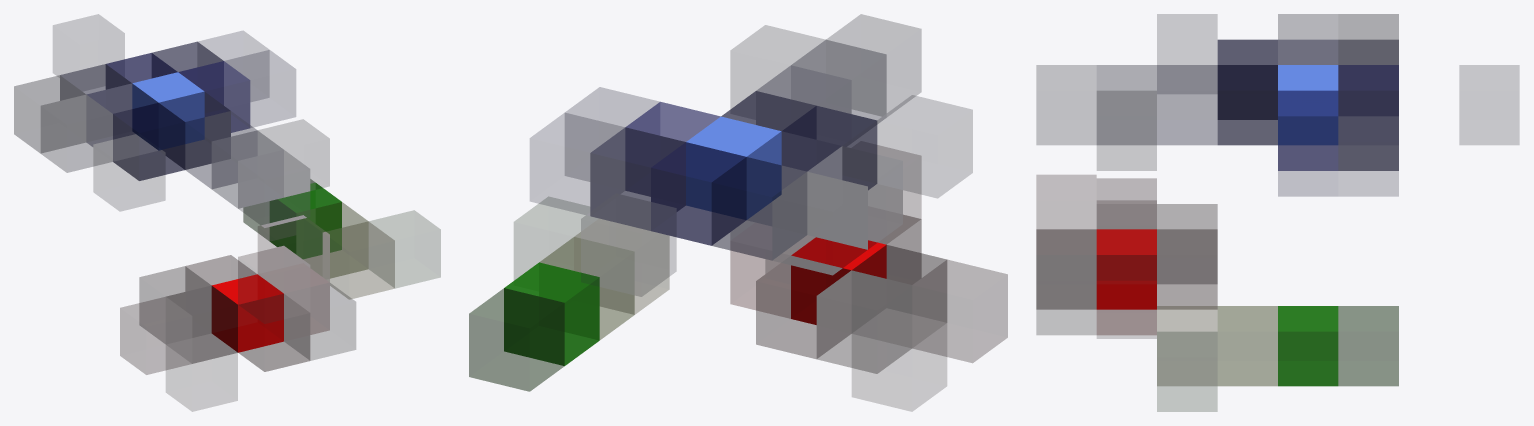
File: iter_5.obj
3 views of the same model, side by side, from view 1: azimuth 30°, elevation 25°; view 2: azimuth 150°, elevation 25°; view 3: azimuth 270°, elevation 25° (orthographic). The views are drawn at different scales.
Visible parts, largest first — view 1: iter_5; view 2: iter_5; view 3: iter_5.
Boxes of the visible parts, x1,y1,x2,y2 form: iter_5: (14,14,440,411); iter_5: (469,14,1007,411); iter_5: (1036,14,1518,411).
Size of the model in its own units: 0.7 by 0.5 by 0.8.
